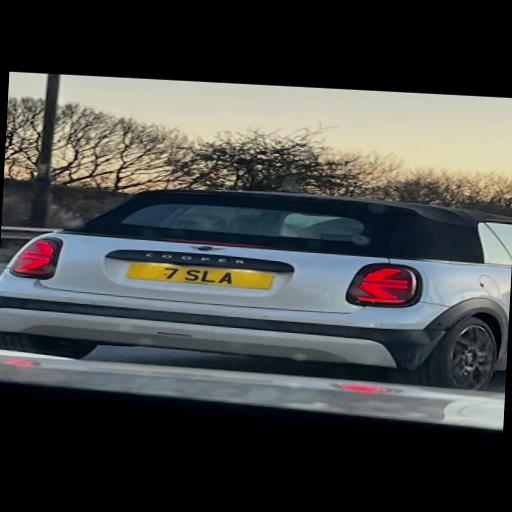numberplates: (127, 263, 273, 289)
